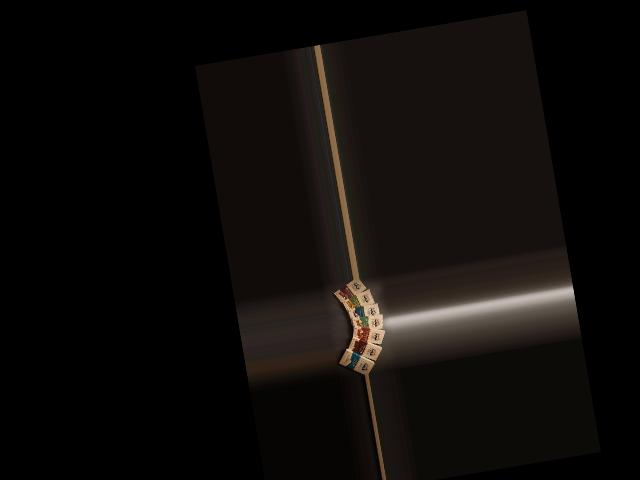chocolate: (334, 344, 377, 378)
